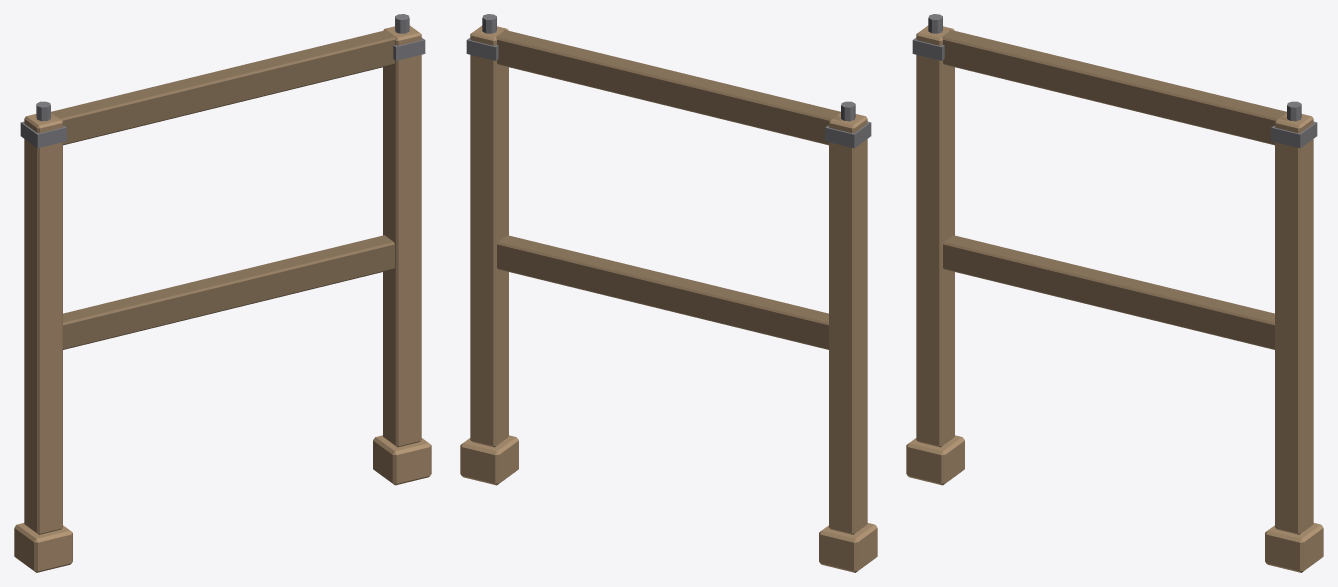
The model's file is prop-blanket-rail-wood.fbx.
3 views of the same model, side by side, from view 1: azimuth 30°, elevation 25°; view 2: azimuth 150°, elevation 25°; view 3: azimuth 330°, elevation 25° (orthographic).
Visible parts, largest first — view 1: prop-blanket-rail-wood; view 2: prop-blanket-rail-wood; view 3: prop-blanket-rail-wood.
Part boxes in pixels (left/top/right/bottom): prop-blanket-rail-wood: left=14, top=14, right=431, bottom=572; prop-blanket-rail-wood: left=460, top=14, right=877, bottom=572; prop-blanket-rail-wood: left=906, top=14, right=1323, bottom=572.
Size of the model in its own units: 1.22 by 1.34 by 0.12.
